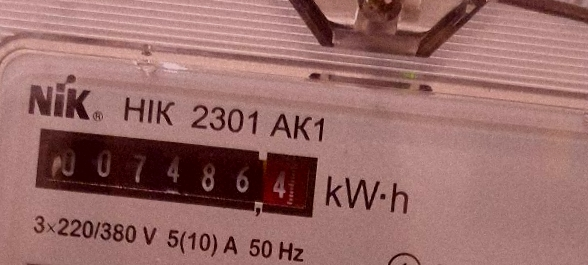0: (55, 143, 78, 179), (92, 145, 113, 180)
4: (161, 149, 182, 186), (268, 165, 288, 201)
6: (231, 161, 253, 195)
7: (124, 149, 150, 184)
8: (197, 159, 217, 195)
screen: (22, 115, 328, 230)
